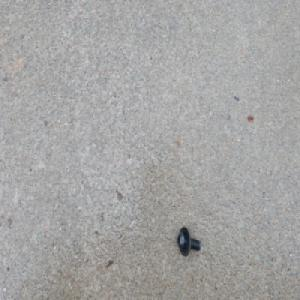BoltWasher: (176, 226, 200, 257)
